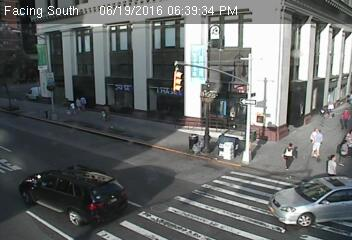neg: (17, 126, 40, 156), (297, 17, 316, 43), (272, 56, 291, 81), (239, 175, 258, 200), (195, 188, 214, 213), (151, 193, 170, 217), (29, 62, 47, 87), (98, 136, 116, 160), (207, 148, 224, 171), (181, 65, 198, 87), (84, 165, 101, 187), (69, 14, 86, 36), (286, 190, 303, 212), (169, 142, 185, 164), (137, 63, 153, 85), (221, 25, 237, 46), (181, 34, 195, 54), (119, 29, 133, 48), (139, 132, 152, 149), (6, 77, 19, 94), (109, 54, 122, 71), (260, 19, 273, 36), (241, 98, 254, 115), (265, 106, 278, 123), (328, 63, 341, 79), (139, 94, 151, 111), (17, 5, 29, 19)
pos: (304, 122, 328, 154), (275, 138, 299, 169), (334, 138, 351, 164), (325, 151, 343, 175), (337, 104, 351, 127), (79, 95, 89, 110), (73, 96, 83, 110), (68, 100, 78, 114)
